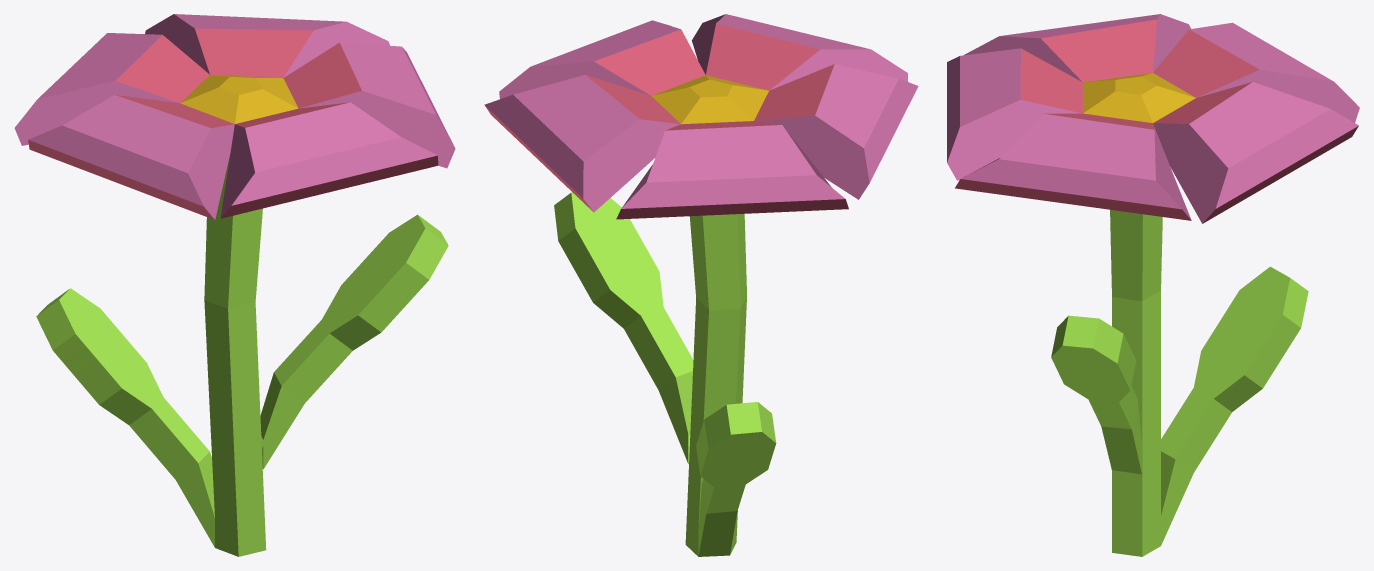
Rendered from flower_rose_detail.fbx.
3 renders of one model, left to right at view 1: azimuth 30°, elevation 25°; view 2: azimuth 150°, elevation 25°; view 3: azimuth 270°, elevation 25°, orthographic.
Visible parts, largest first — view 1: flower_rose; view 2: flower_rose; view 3: flower_rose.
Part boxes in pixels (x1,y1,x2,y2): flower_rose: (14,14,455,556); flower_rose: (484,14,918,556); flower_rose: (947,14,1359,556).
Size of the model in its own units: 25.51 by 30.62 by 24.28.
